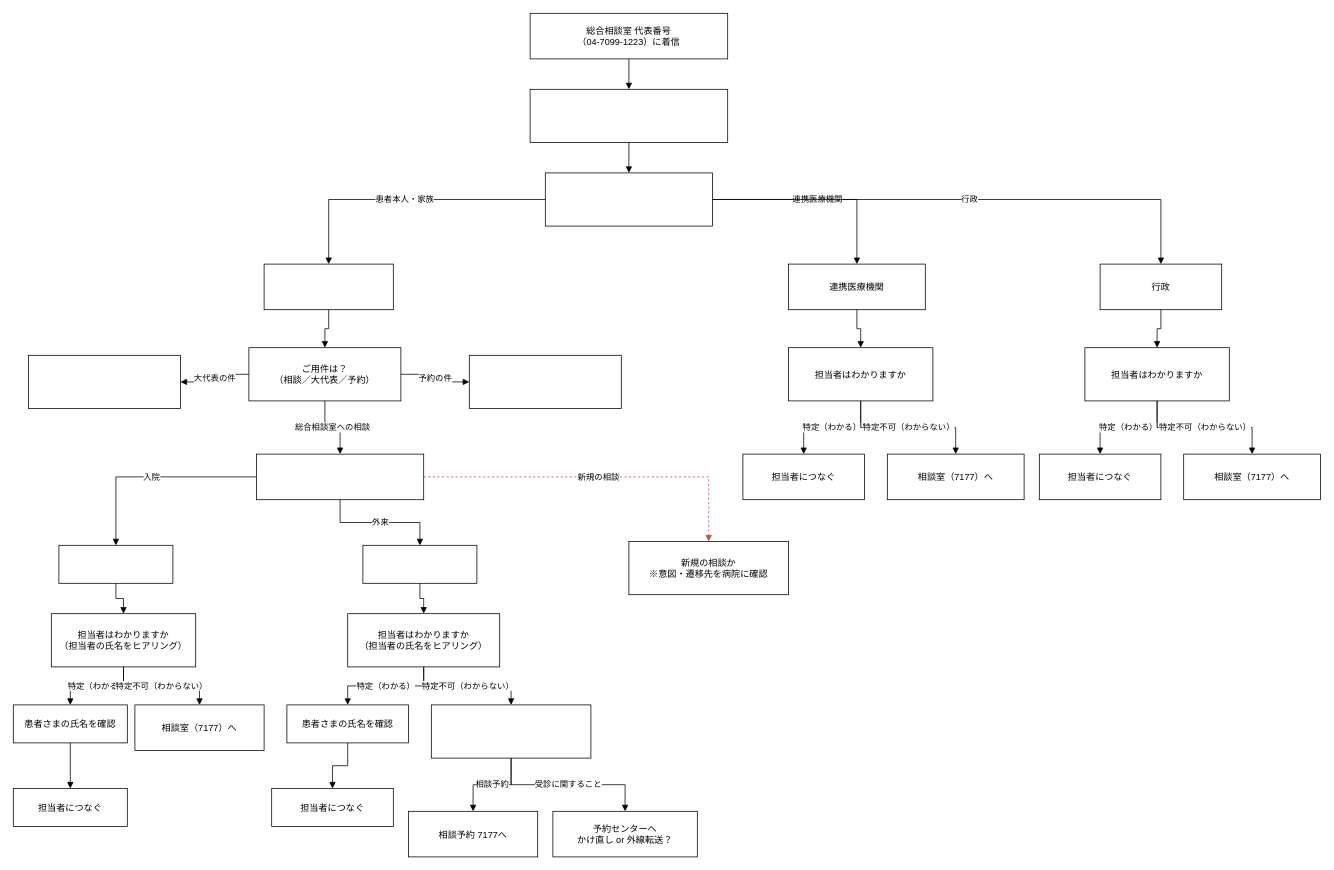
Some shapes in this 1334 by 870 pixel diagram are drawn without their labels. Here are the shapes that lost their labels. From the top down, the centre of each, then its label:
At [628,115]: "Dr.JOY AI電話（クラウドIVR） 一次応答・用件判定".
At [628,199]: "発信元はどなたですか？".
At [328,286]: "患者本人・ご家族".
At [104,381]: "大代表へ転送 （04-7092-2211・誤着信）".
At [545,381]: "予約センターへ転送 （予約の用件・誤着信）".
At [340,476]: "入院患者さまですか／ 外来患者さまですか".
At [115,564]: "入院患者".
At [419,564]: "外来患者".
At [511,731]: "相談予約ですか／ 受診に関することですか".
